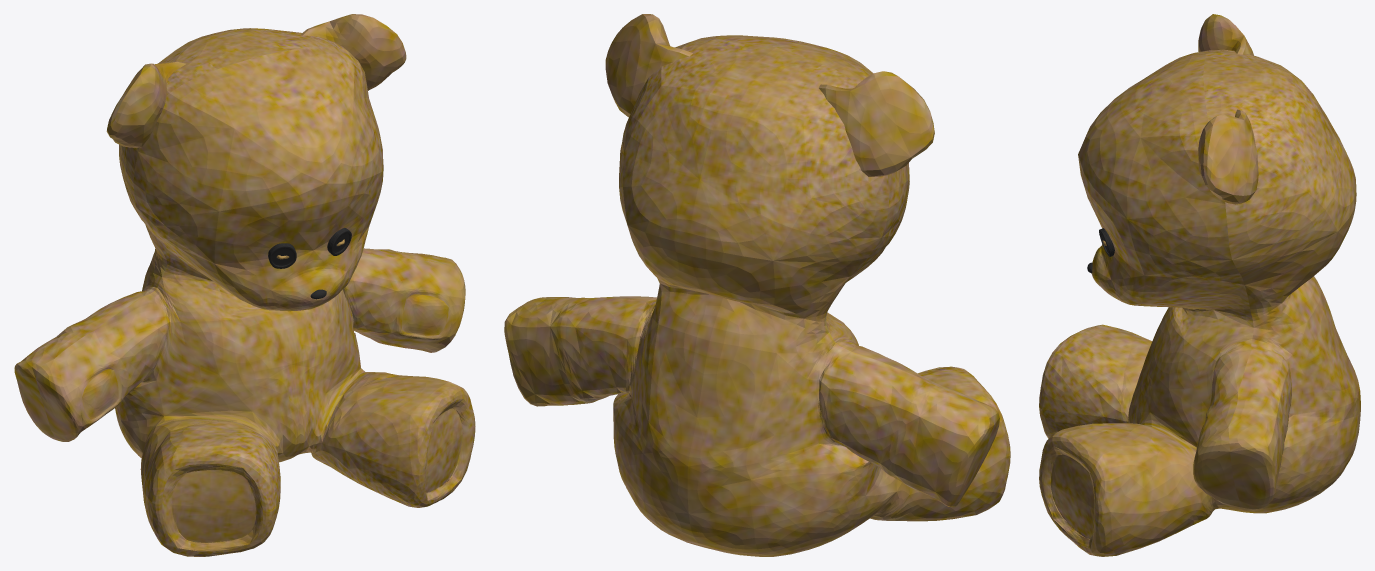
File: teddyBear.obj
The picture shows the model from 3 angles, left to right: view 1: azimuth 30°, elevation 25°; view 2: azimuth 150°, elevation 25°; view 3: azimuth 270°, elevation 25°; orthographic projection. The views are drawn at different scales.
Visible parts, largest first — view 1: Cube; view 2: Cube; view 3: Cube.
Boxes of the visible parts, x1=… form: Cube: x1=14, y1=14, x2=475, y2=556; Cube: x1=504, y1=14, x2=1010, y2=556; Cube: x1=1039, y1=14, x2=1360, y2=556.
Bounding box in the file's own units: 33.15 × 32.23 × 21.78.
2 materials, 1 textured.
